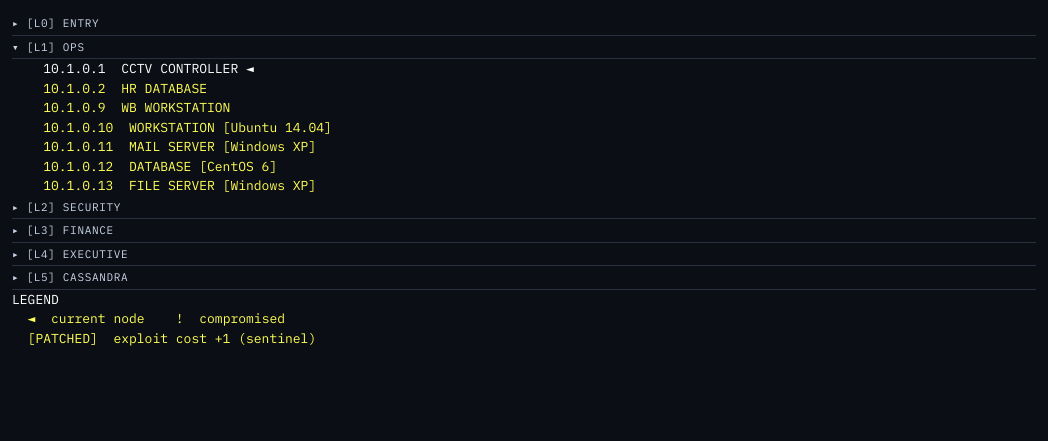
Scenario: MapModal › toggles a level open and closed on click
The image size is (1048, 441).
Click the button "▸ [L2] SECURITY" at (70, 206), box [12, 196, 1036, 219]
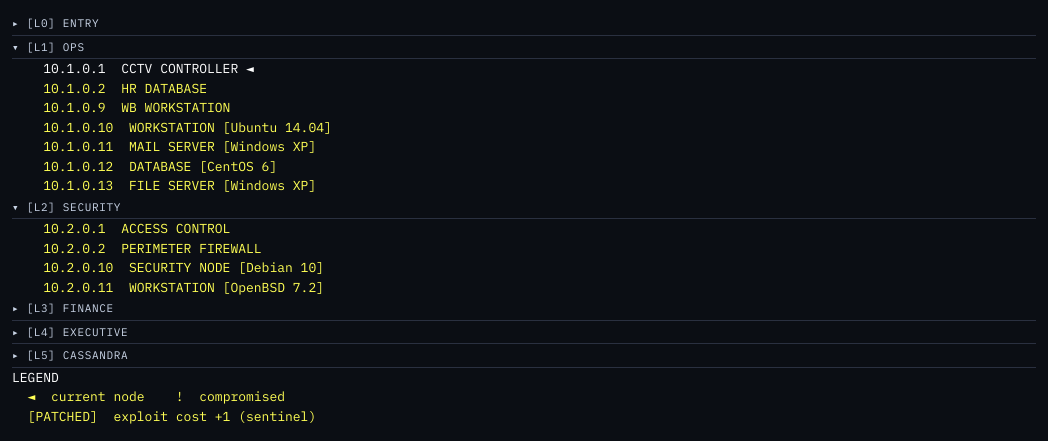
Result: the button "▾ [L2] SECURITY" is expanded
Click the button "▾ [L2] SECURITY" at (70, 206), box [12, 196, 1036, 219]
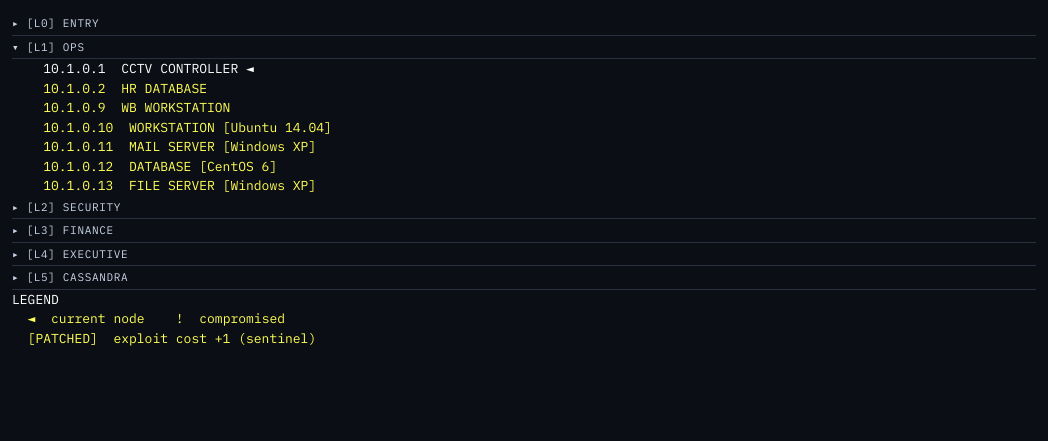
Result: the button "▸ [L2] SECURITY" is collapsed at [12, 196, 1036, 219]
